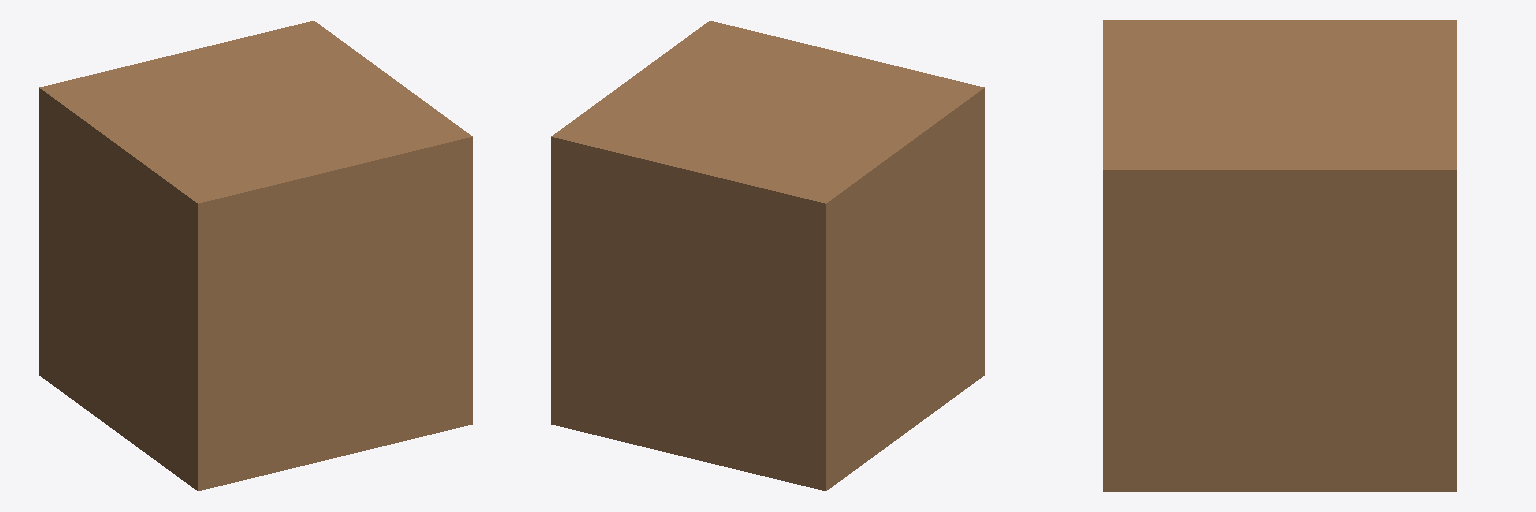
URDF robot description (box3):
<?xml version="1.0"?>
<robot name="box3">
  <material name="Box_color">
    <color rgba="0.678 0.529 0.384 1.0"/>
  </material>

  <link name="box_2">
    <visual>
      <origin xyz="0 0 0" rpy="0 0 0" />
      <geometry>
        <box size="0.4 0.4 0.4" />
      </geometry>
      <material name="Box_color"/>
    </visual>
  </link>

</robot>

--- What the picture shows (computed from the rendered views, not written in the file) ---
The picture shows the robot from 3 angles, left to right: view 1: azimuth 30°, elevation 25°; view 2: azimuth 150°, elevation 25°; view 3: azimuth 270°, elevation 25°; orthographic projection.
Model box3 with 1 links and 0 joints (none), rooted at box_2, posed every joint at zero.
Links seen in each view (by area): view 1: box_2; view 2: box_2; view 3: box_2.
Boxes of the visible links, left/top/right/bottom form: box_2: left=39, top=21, right=472, bottom=490; box_2: left=551, top=21, right=984, bottom=490; box_2: left=1103, top=20, right=1456, bottom=491.
Bounding box of the posed robot: 0.4 × 0.4 × 0.4 m (x, y, z).
Geometry: primitives only (box / cylinder / sphere), no mesh files.